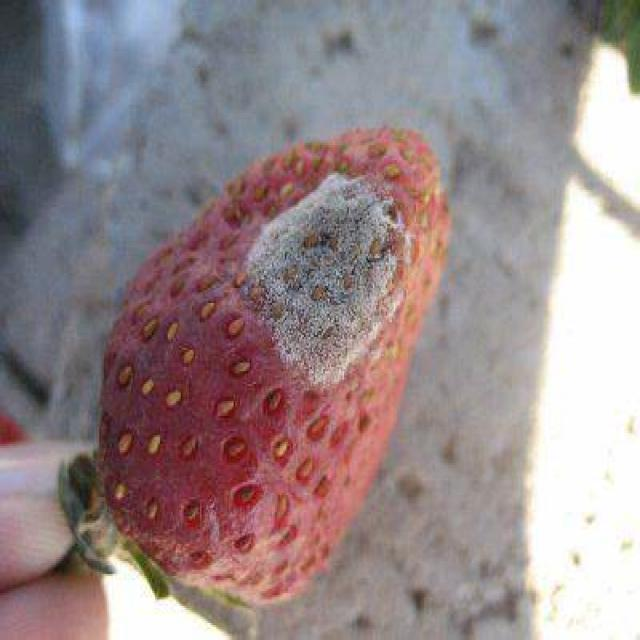Moho gris: (100, 115, 456, 598)
